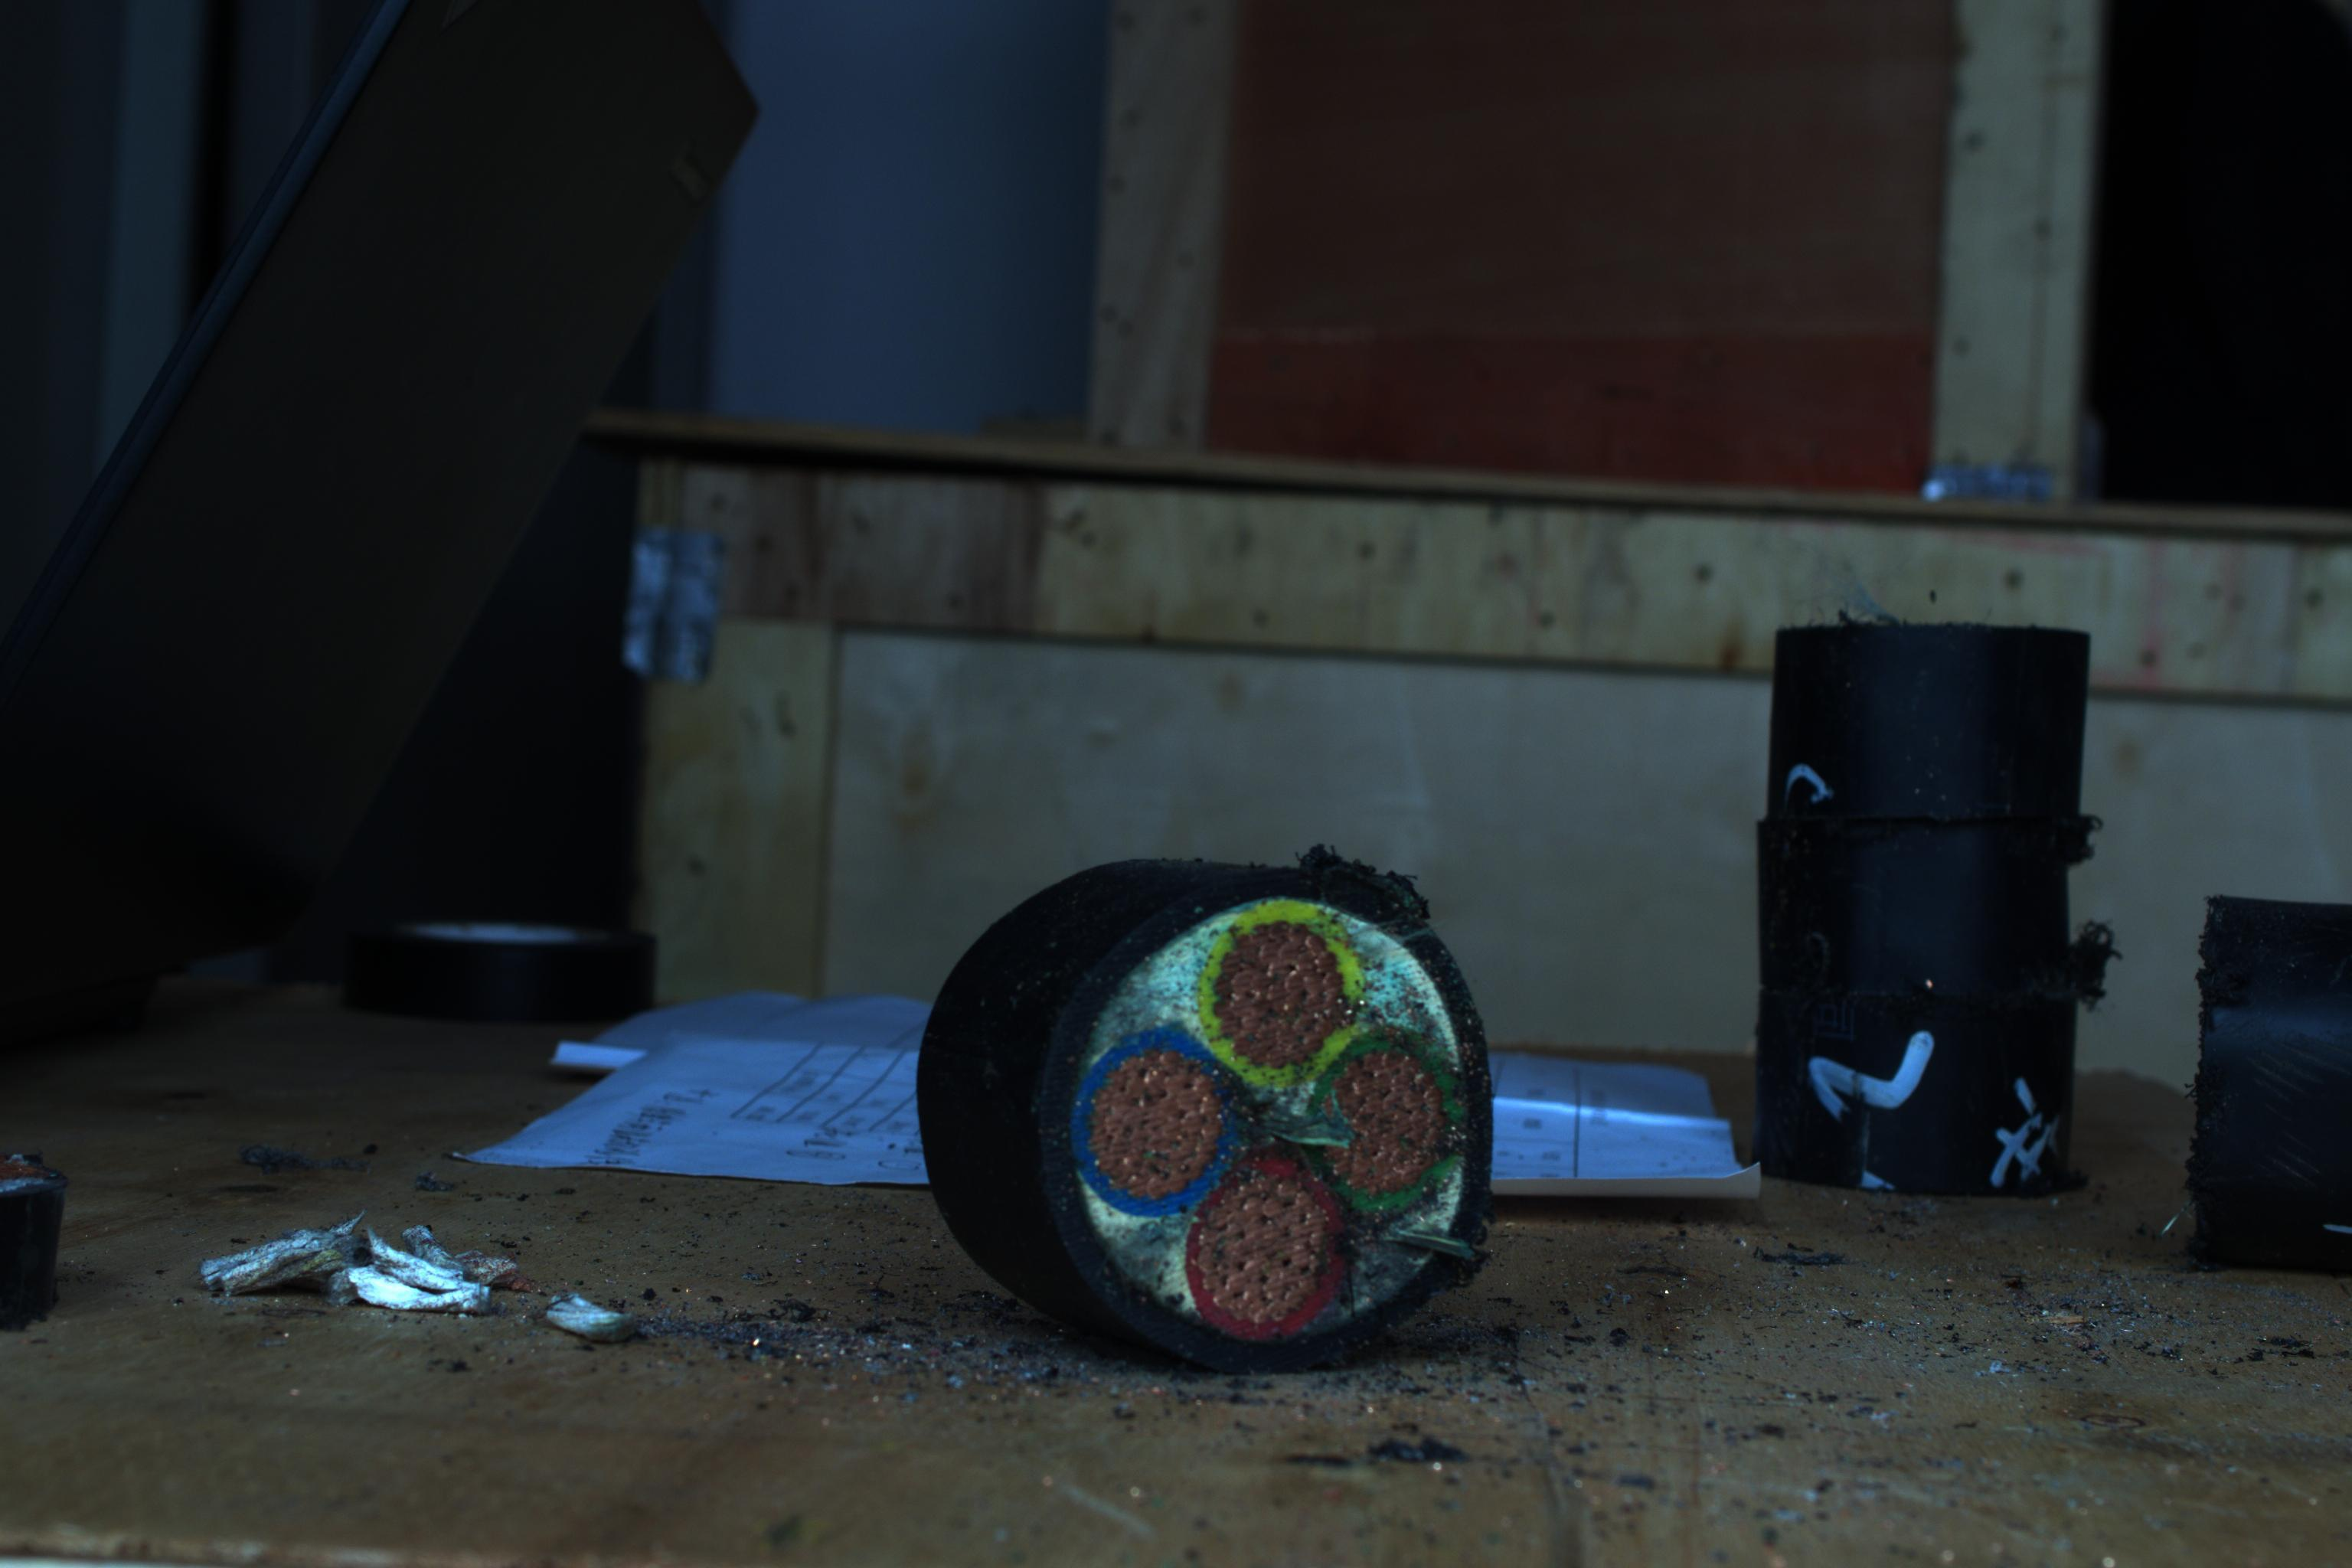YJV_0.6_1kV_4x185: (1015, 871, 1514, 1340)
